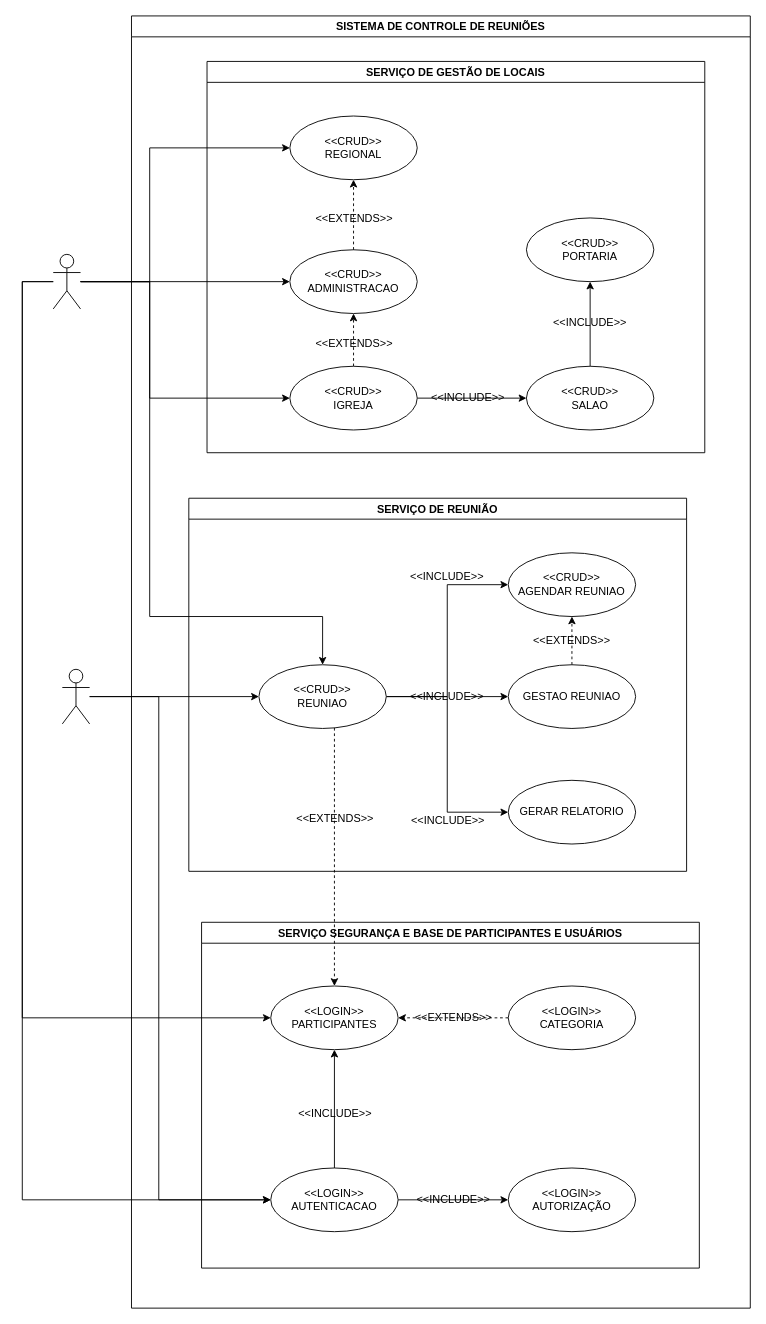
Image size: 766x1324. Some labels were removed from this diagram. Here are the shapes that lost their labels. From the top down, the centre of each, then its label:
(66,281): ADM
(75,696): COLABORADOR
